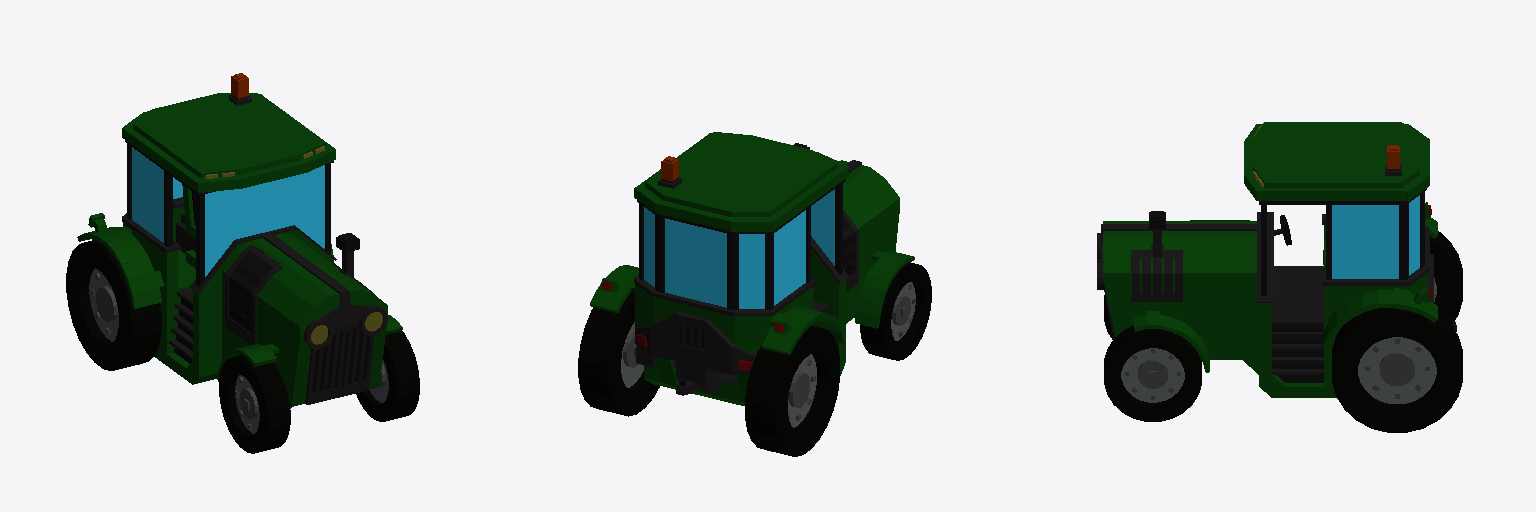
Rendered from Tractor.obj.
3 renders of one model, left to right at view 1: azimuth 30°, elevation 25°; view 2: azimuth 150°, elevation 25°; view 3: azimuth 270°, elevation 25°, orthographic.
Visible parts, largest first — view 1: Part79, Part233, Part183, Part144, Part134, Wedge13, Part159, Part132, Part223, Wedge25, Wedge28, Part179 (+17 smaller); view 2: Part79, Part178, Part144, Part147, Part134, Part159, Part233, Wedge13, Part183, Part205, Wedge31, Part20 (+23 smaller); view 3: Part79, Part243, Part173, Part42, Wedge27, Part162, Wedge35, Part159, Part272, Wedge10, Part183, Part220 (+15 smaller).
Boxes of the visible parts, <box> form: Part79: <box>133,93,324,177</box>; Part233: <box>205,165,324,276</box>; Part183: <box>193,259,333,377</box>; Part144: <box>132,147,163,242</box>; Part134: <box>222,278,291,406</box>; Wedge13: <box>223,251,314,326</box>; Part159: <box>122,95,335,192</box>; Part132: <box>158,253,195,353</box>; Part223: <box>254,233,357,303</box>; Wedge25: <box>238,240,329,307</box>; Wedge28: <box>292,329,310,406</box>; Part179: <box>123,222,177,290</box>; Part79: <box>647,132,837,216</box>; Part178: <box>665,218,726,307</box>; Part144: <box>774,210,805,305</box>; Part147: <box>739,234,764,308</box>; Part134: <box>846,212,891,323</box>; Part159: <box>636,133,848,230</box>; Part233: <box>811,189,834,265</box>; Wedge13: <box>843,179,899,228</box>; Part183: <box>811,274,845,365</box>; Part205: <box>653,297,734,343</box>; Wedge31: <box>735,316,769,354</box>; Part20: <box>676,343,711,383</box>; Part79: <box>1265,122,1400,187</box>; Part243: <box>1121,281,1258,359</box>; Part173: <box>1332,205,1398,278</box>; Part42: <box>1358,337,1436,403</box>; Wedge27: <box>1103,250,1256,272</box>; Part162: <box>1272,270,1323,317</box>; Wedge35: <box>1103,235,1256,249</box>; Part159: <box>1257,124,1407,200</box>; Part272: <box>1121,348,1184,402</box>; Wedge10: <box>1272,325,1323,382</box>; Part183: <box>1259,303,1271,386</box>; Part220: <box>1101,224,1256,242</box>.
Bounding box in the file's own units: 13.32 × 16.47 × 21.18.